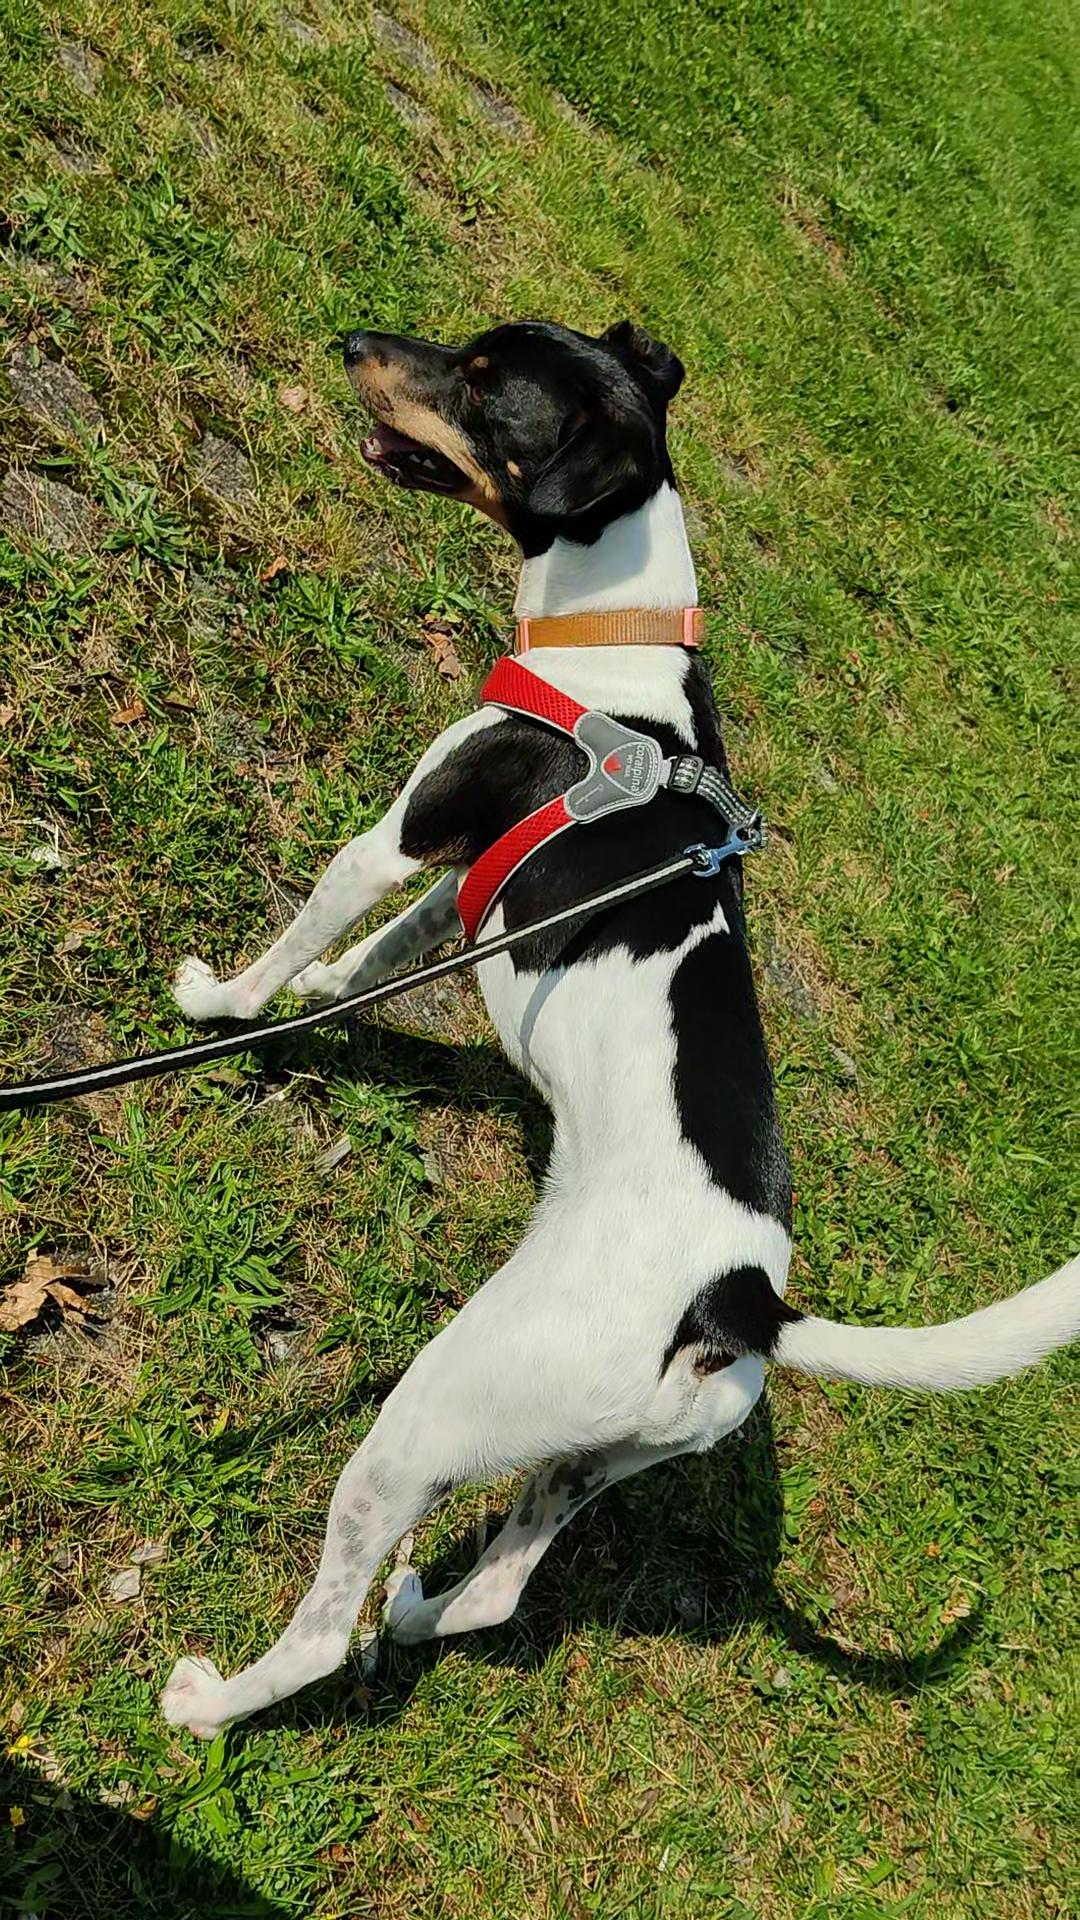Dog: (142, 305, 1079, 1725)
